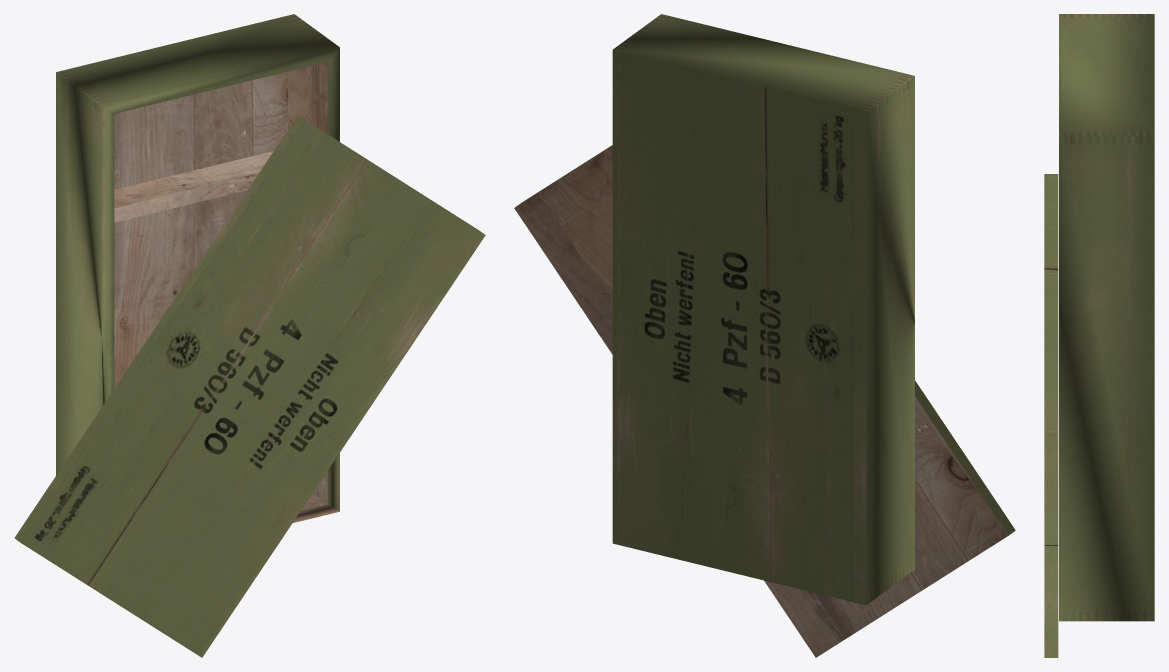
The model's file is military_panzerfaust_box_empty.glb.
The picture shows the model from 3 angles, left to right: view 1: azimuth 30°, elevation 25°; view 2: azimuth 150°, elevation 25°; view 3: azimuth 270°, elevation 25°; orthographic projection. The views are drawn at different scales.
Bounding box in the file's own units: 47.52 × 55.7 × 9.35.
Materials: 2 (2 with a texture image).
